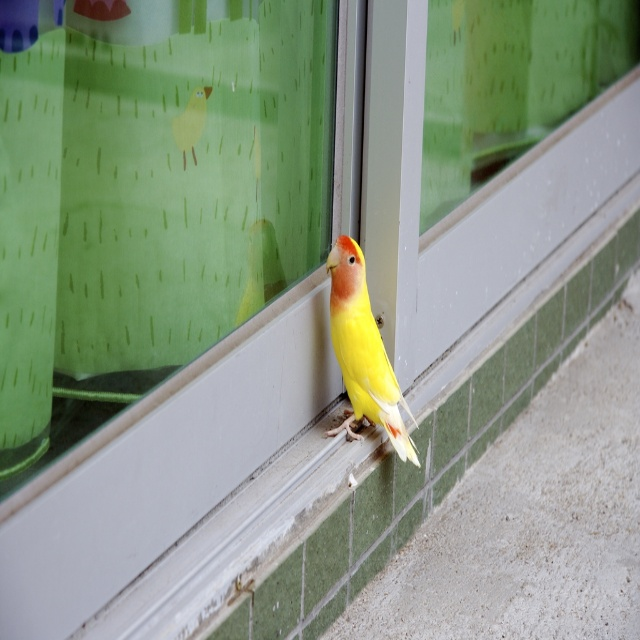Canary: (324, 231, 420, 465)
